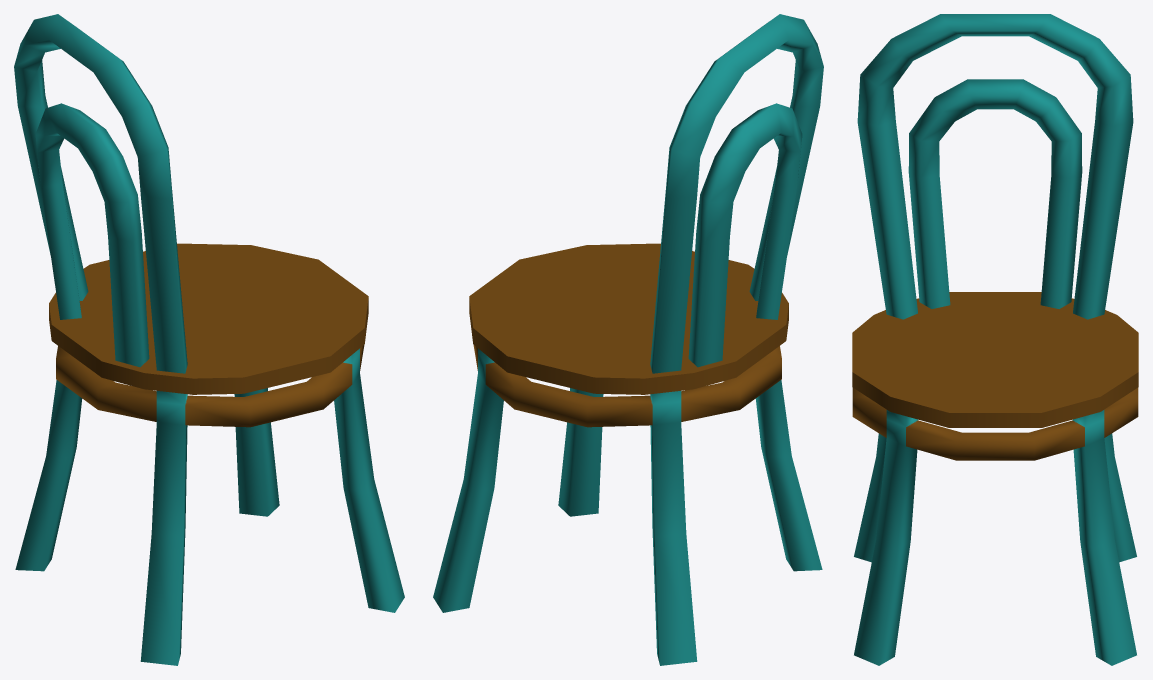
The model's file is Env_Chair_Style1.fbx.
3 renders of one model, left to right at view 1: azimuth 30°, elevation 25°; view 2: azimuth 150°, elevation 25°; view 3: azimuth 270°, elevation 25°, orthographic. The views are drawn at different scales.
Visible parts, largest first — view 1: Env_Chair_Style1; view 2: Env_Chair_Style1; view 3: Env_Chair_Style1.
Boxes of the visible parts, left/top/right/bottom form: Env_Chair_Style1: left=14, top=14, right=404, bottom=665; Env_Chair_Style1: left=433, top=14, right=823, bottom=665; Env_Chair_Style1: left=852, top=14, right=1138, bottom=665.
Bounding box in the file's own units: 53.2 × 106 × 51.36.
